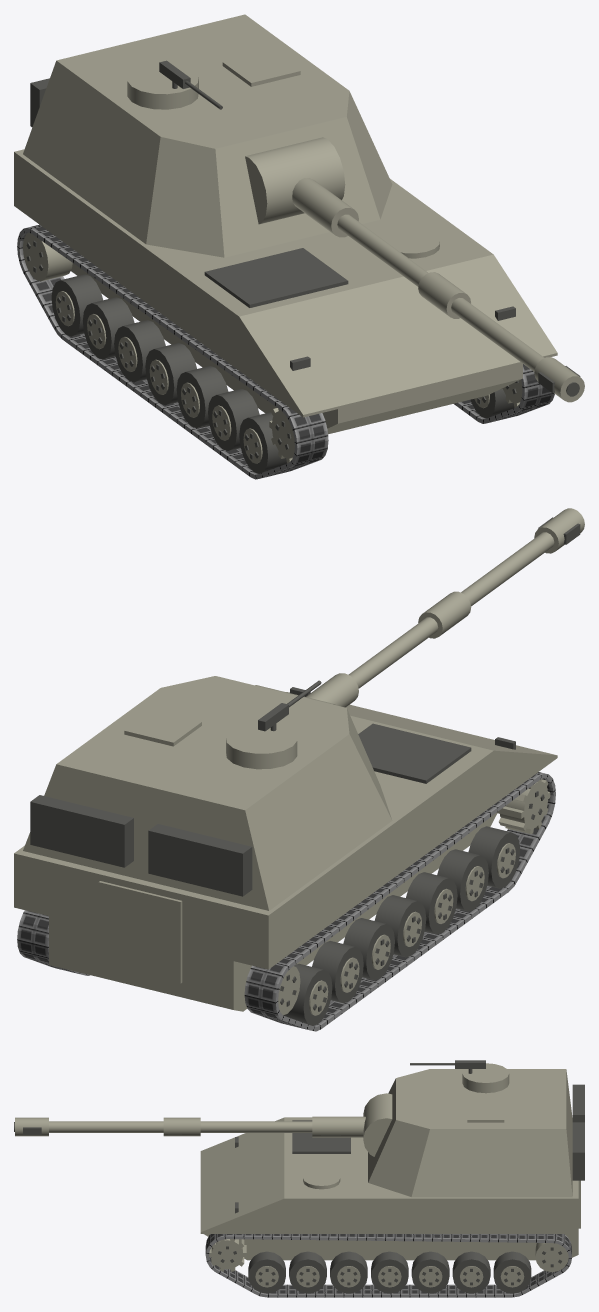
The model's file is how.glb.
3 renders of one model, top to bottom at view 1: azimuth 30°, elevation 25°; view 2: azimuth 150°, elevation 25°; view 3: azimuth 270°, elevation 25°, orthographic. The views are drawn at different scales.
Visible parts, largest first — view 1: hull_body, turret, gun, track_R, hull_dark, wheel_R3, wheel_R1, wheel_R2, wheel_R5, wheel_R4, wheel_R6, wheel_R7 (+5 smaller); view 2: turret, hull_body, turret_dark, track_R, gun, hull_dark, wheel_R2, wheel_R3, wheel_R5, wheel_R4, wheel_R6, wheel_R7 (+4 smaller); view 3: hull_body, turret, gun, track_L, turret_dark, wheel_L1, wheel_L3, wheel_L2, wheel_L6, wheel_L4, wheel_L5, wheel_L7 (+3 smaller).
Part boxes in pixels (bbox=[...]): hull_body: bbox=[14, 149, 557, 434]; turret: bbox=[23, 14, 392, 257]; gun: bbox=[245, 137, 584, 402]; track_R: bbox=[17, 224, 328, 479]; hull_dark: bbox=[204, 248, 515, 370]; wheel_R3: bbox=[114, 320, 165, 382]; wheel_R1: bbox=[51, 274, 102, 336]; wheel_R2: bbox=[82, 297, 134, 359]; wheel_R5: bbox=[176, 366, 228, 428]; wheel_R4: bbox=[145, 343, 196, 405]; wheel_R6: bbox=[208, 388, 259, 450]; wheel_R7: bbox=[239, 412, 286, 473]; turret: bbox=[23, 676, 392, 910]; hull_body: bbox=[14, 692, 557, 1011]; turret_dark: bbox=[30, 680, 321, 896]; track_R: bbox=[244, 772, 555, 1031]; gun: bbox=[255, 508, 584, 707]; hull_dark: bbox=[290, 687, 515, 783]; wheel_R2: bbox=[312, 941, 363, 1003]; wheel_R3: bbox=[343, 918, 394, 980]; wheel_R5: bbox=[406, 872, 457, 934]; wheel_R4: bbox=[374, 895, 426, 957]; wheel_R6: bbox=[437, 849, 488, 911]; wheel_R7: bbox=[468, 826, 520, 888]; hull_body: bbox=[200, 1117, 580, 1260]; turret: bbox=[368, 1063, 572, 1197]; gun: bbox=[15, 1093, 392, 1156]; track_L: bbox=[205, 1234, 571, 1297]; turret_dark: bbox=[410, 1060, 584, 1180]; wheel_L1: bbox=[493, 1251, 531, 1293]; wheel_L3: bbox=[411, 1251, 449, 1293]; wheel_L2: bbox=[452, 1251, 490, 1293]; wheel_L6: bbox=[289, 1251, 326, 1293]; wheel_L4: bbox=[371, 1251, 408, 1293]; wheel_L5: bbox=[330, 1251, 367, 1293]; wheel_L7: bbox=[248, 1251, 285, 1293].
Bounding box in the file's own units: 3.15 × 3.18 × 9.21.
Materials: 5 (3 with a texture image).
